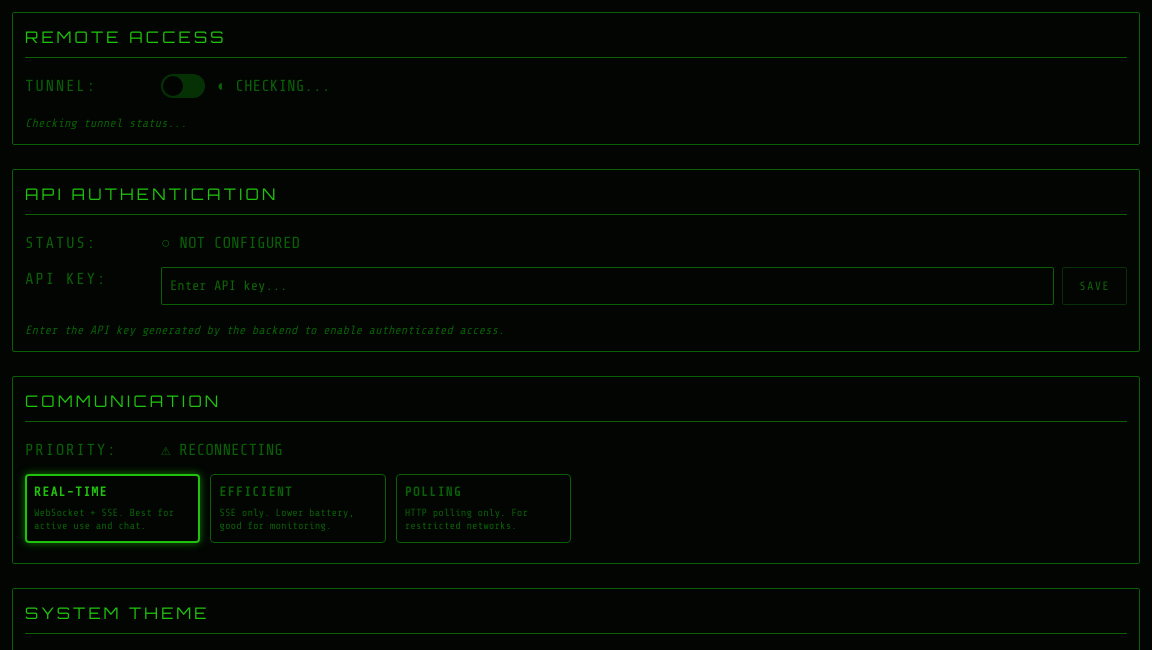
Scenario: Communication Settings › priority selection › should switch to polling mode when clicked
Step 1. Click the text "POLLING" → (433, 493), box [405, 483, 462, 503]
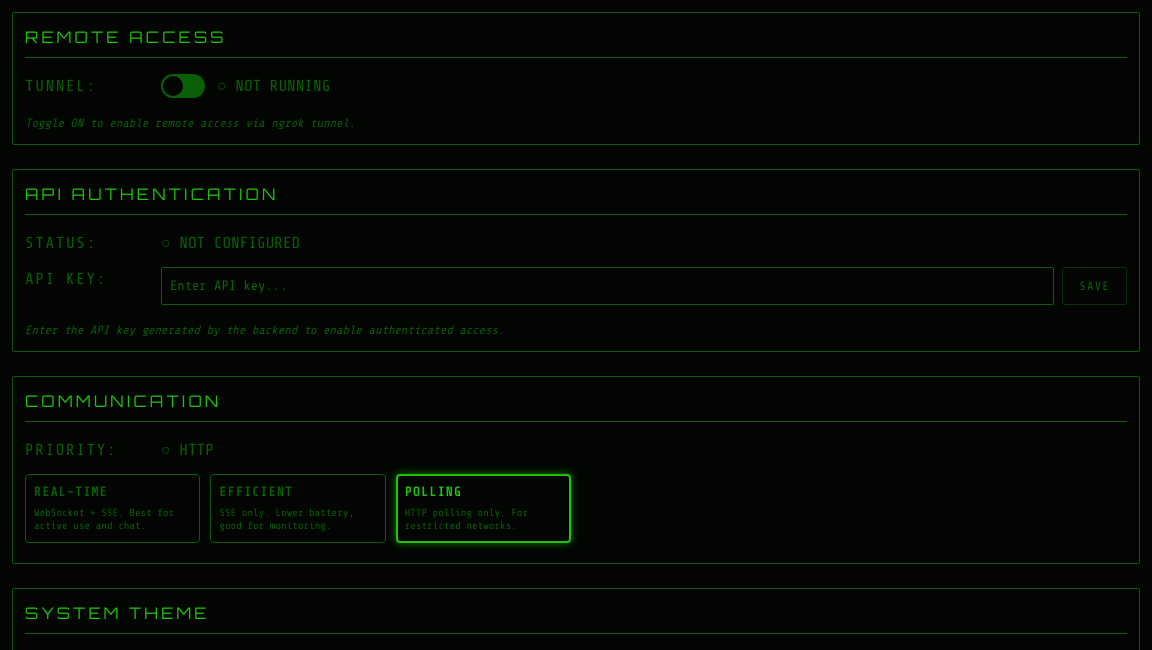
expect the text "○ HTTP" is shown: met, box [161, 438, 214, 462]
